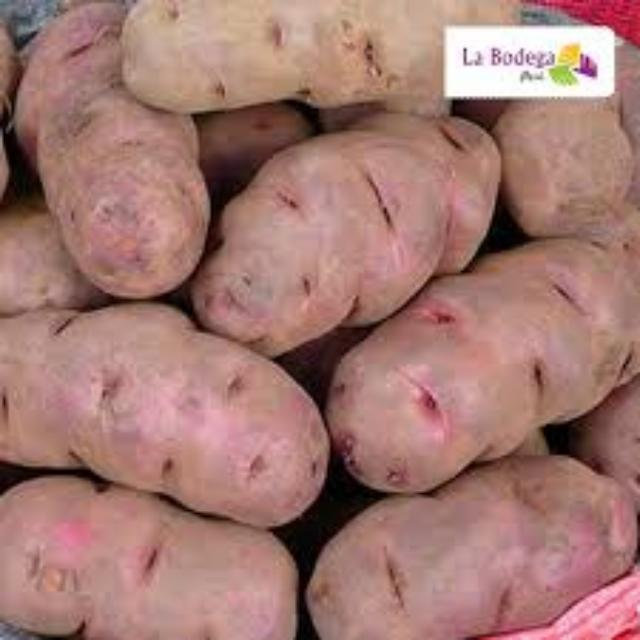Diseased-fungal potato: (316, 238, 638, 500), (181, 91, 505, 346)
